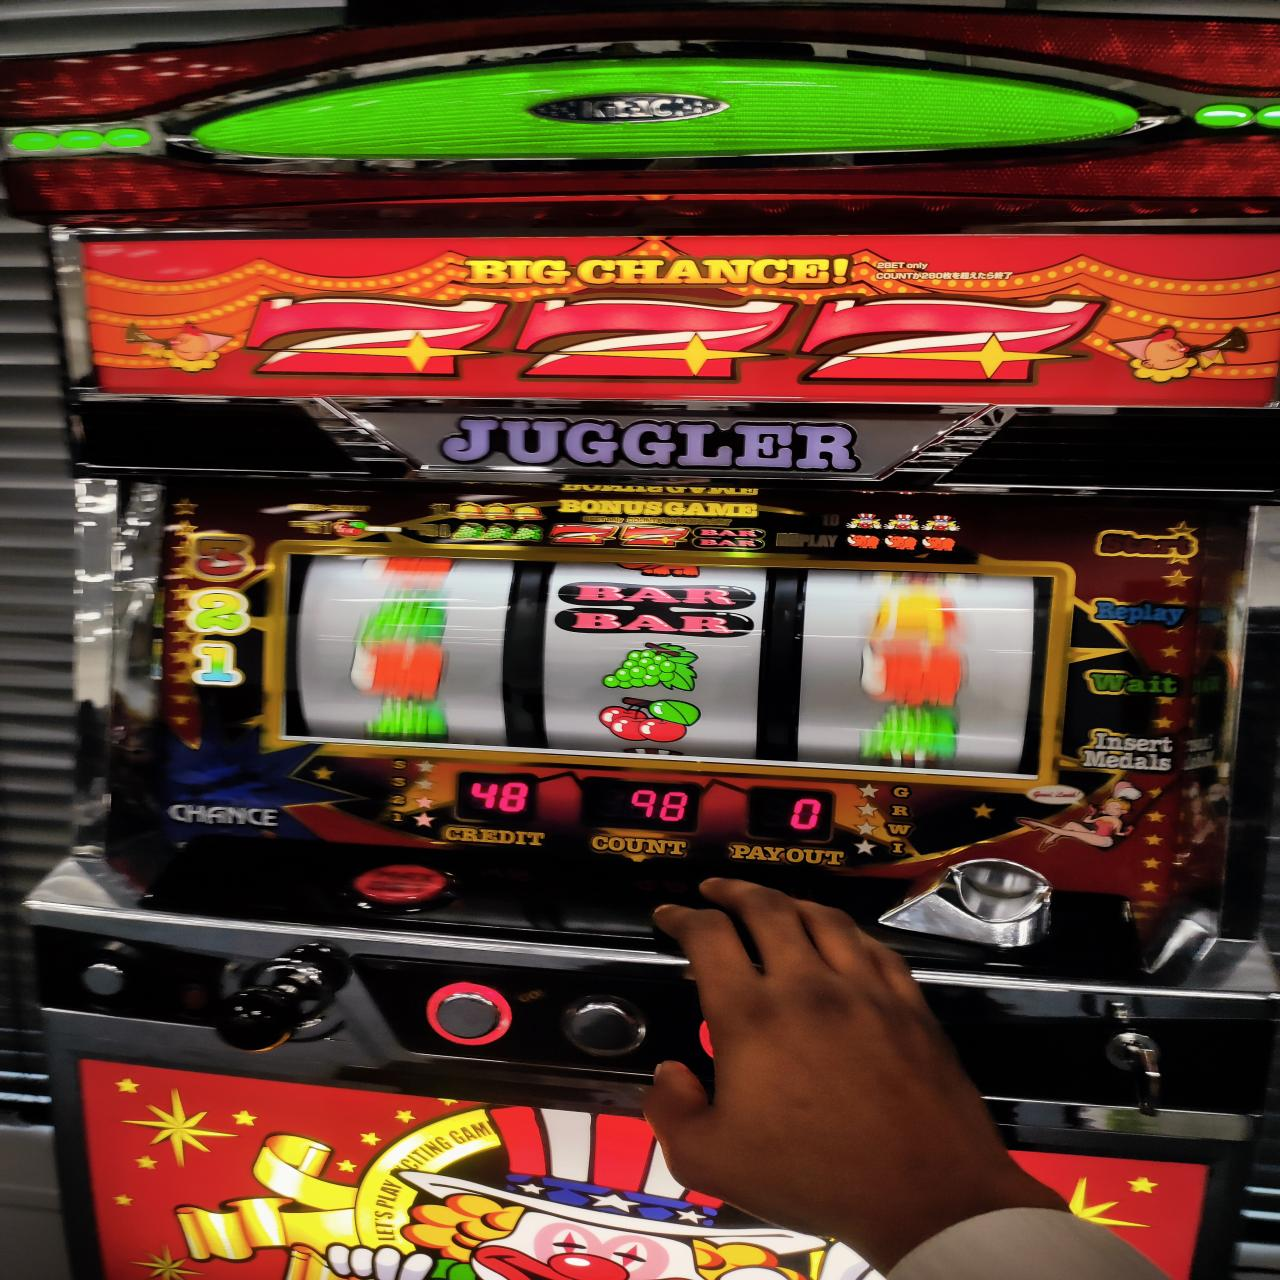bar: (556, 581, 755, 638)
cherry: (598, 697, 700, 745)
grape: (604, 640, 700, 693)
rhino: (287, 549, 1053, 782)
